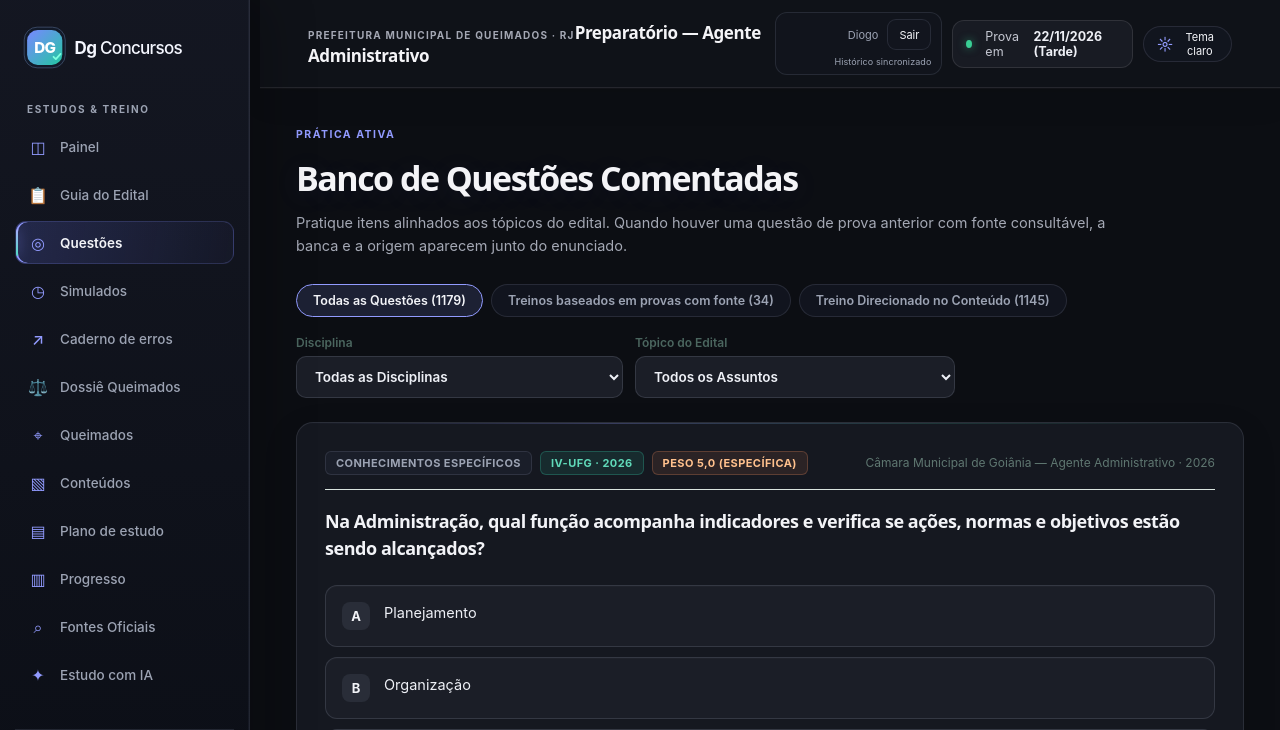
Scenario: navegação principal › retains the error across reloads until mastery, then reopens after a new error
Later steps or results of the test are not shown.
Click the text "Planejamento".
click(430, 613)  # box [384,602,477,624]
(page scrolled)
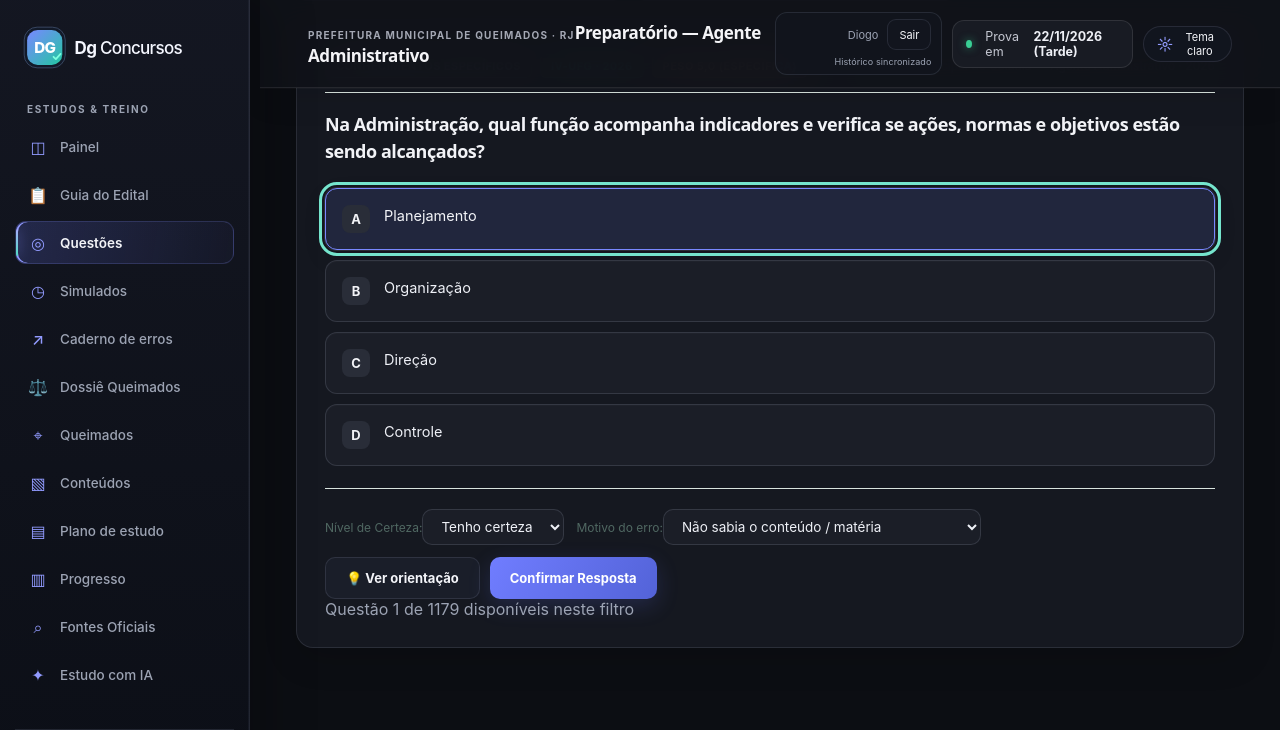
Click the button "Confirmar Resposta".
click(573, 578)  # box [490,557,657,599]
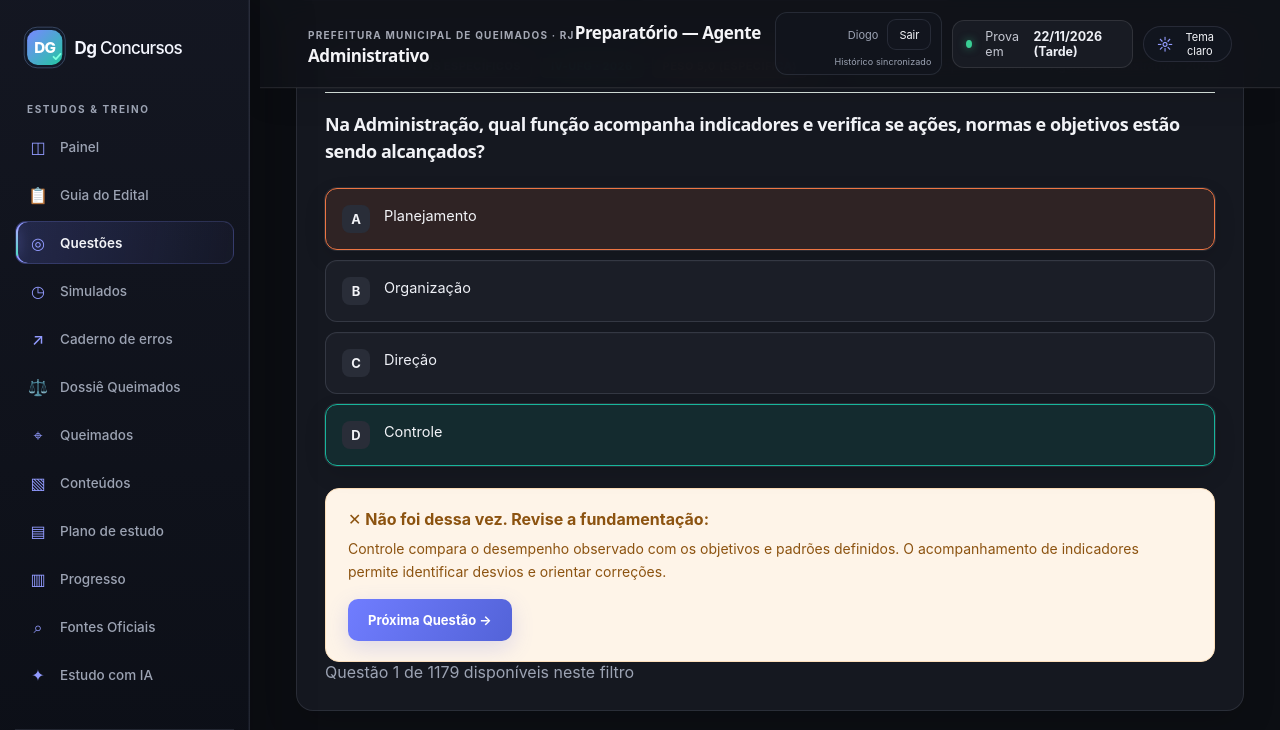
Click the link "↗ Caderno de erros".
click(102, 339)  # box [32,329,173,349]
(page scrolled)
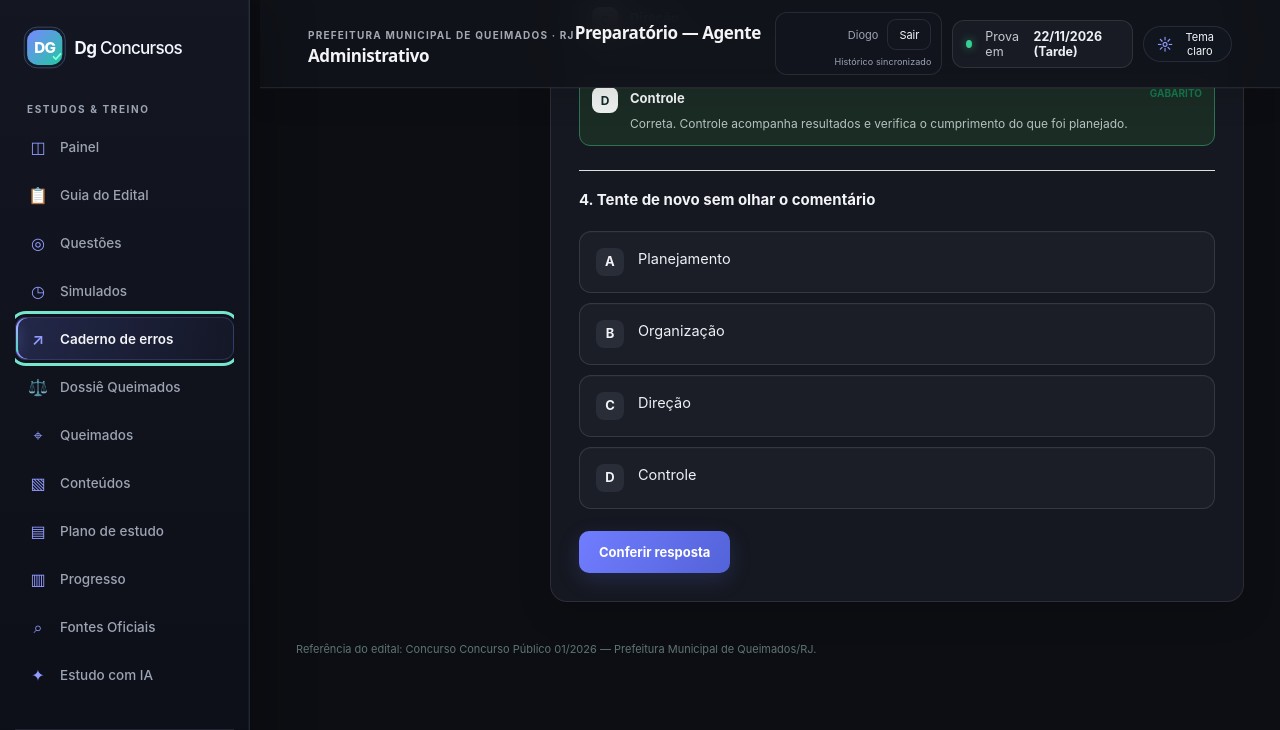
Click the button "D Controle".
click(667, 474)  # box [579,447,1215,509]
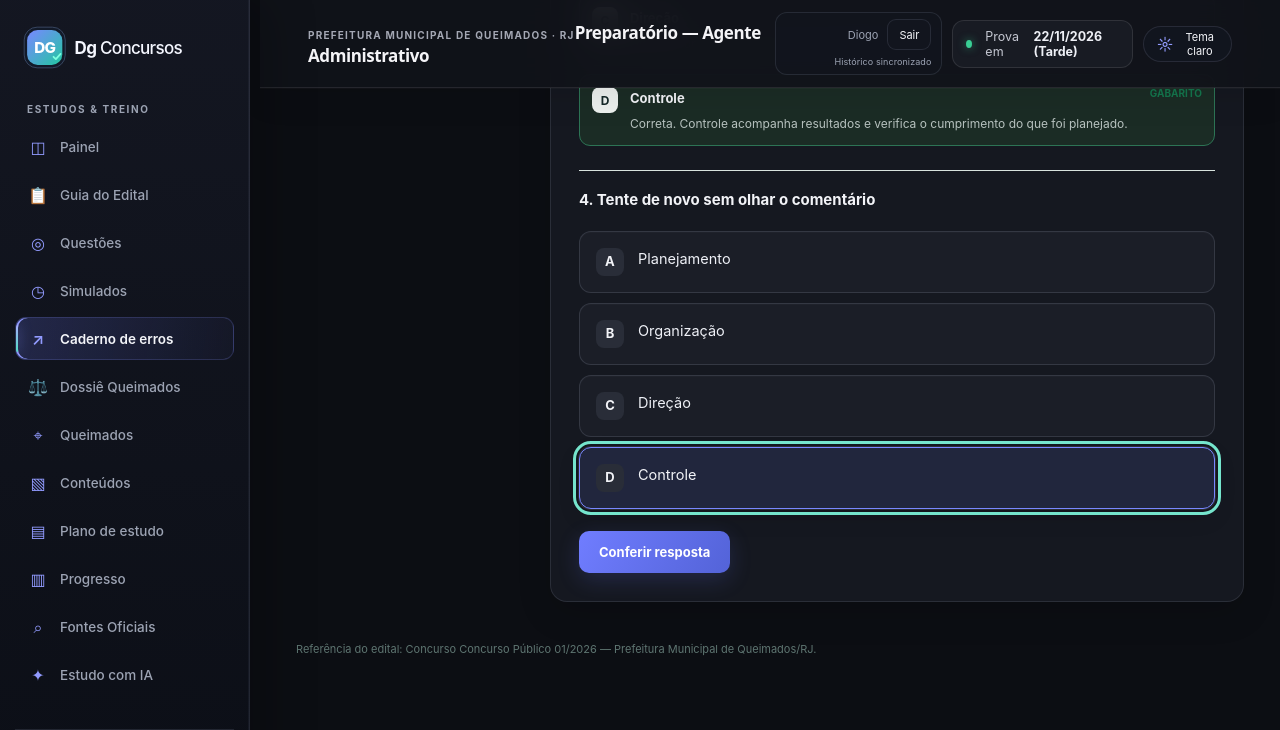
Click the button "Conferir resposta".
click(655, 552)  # box [579,531,730,573]
(page scrolled)
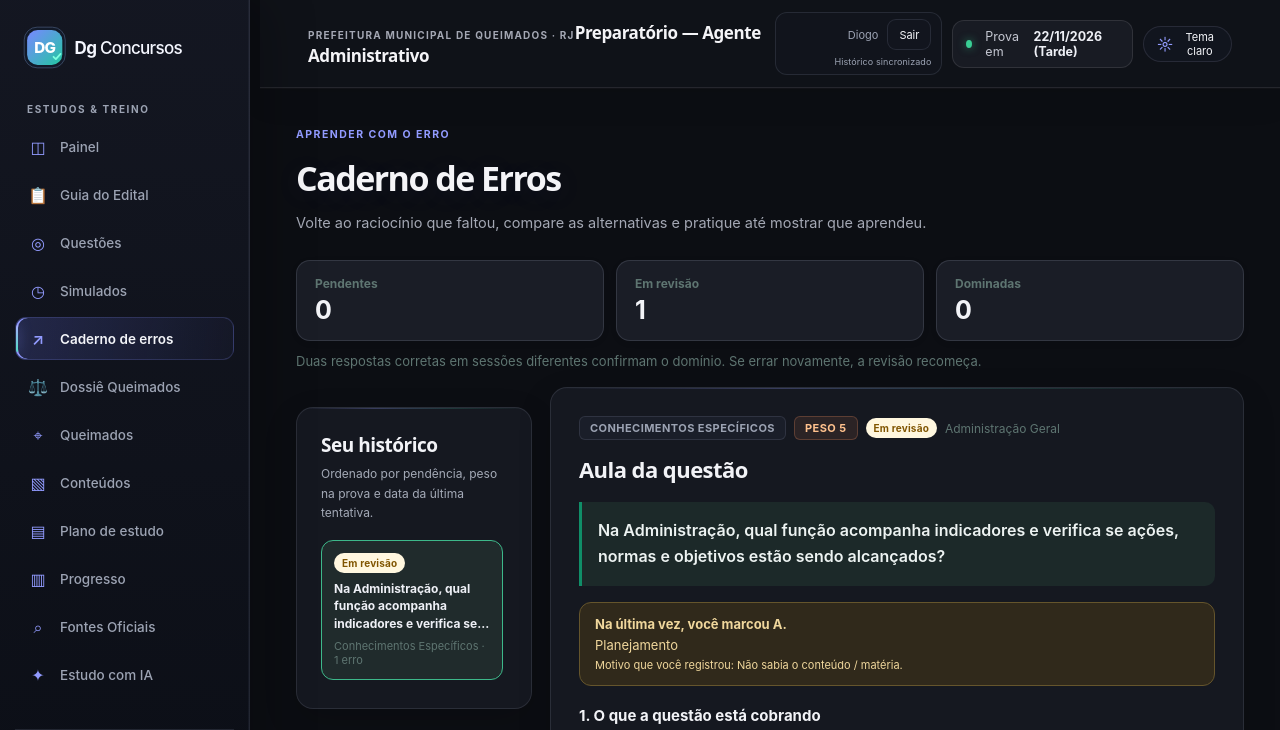
Now the text "Em revisão" next to "Dominadas" is shown, box [635,276,699,291]
